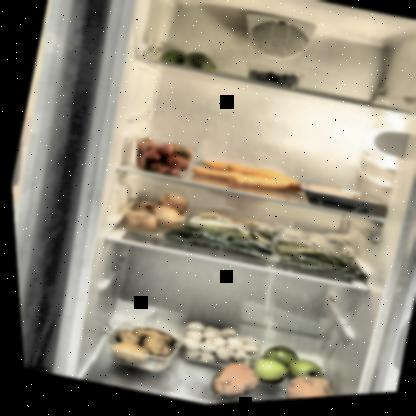apple: (241, 337, 325, 400)
beef: (295, 180, 384, 227)
blueberries: (241, 62, 306, 98)
carrot: (186, 150, 305, 209)
green_beans: (266, 221, 379, 296)
lime: (157, 44, 220, 78)
mushrooms: (169, 317, 255, 380)
onion: (112, 182, 191, 248)
potato: (97, 312, 180, 383)
spinach: (154, 198, 281, 273)
strawberries: (125, 133, 195, 185)
sweet_potato: (200, 355, 262, 406), (273, 371, 338, 402)
